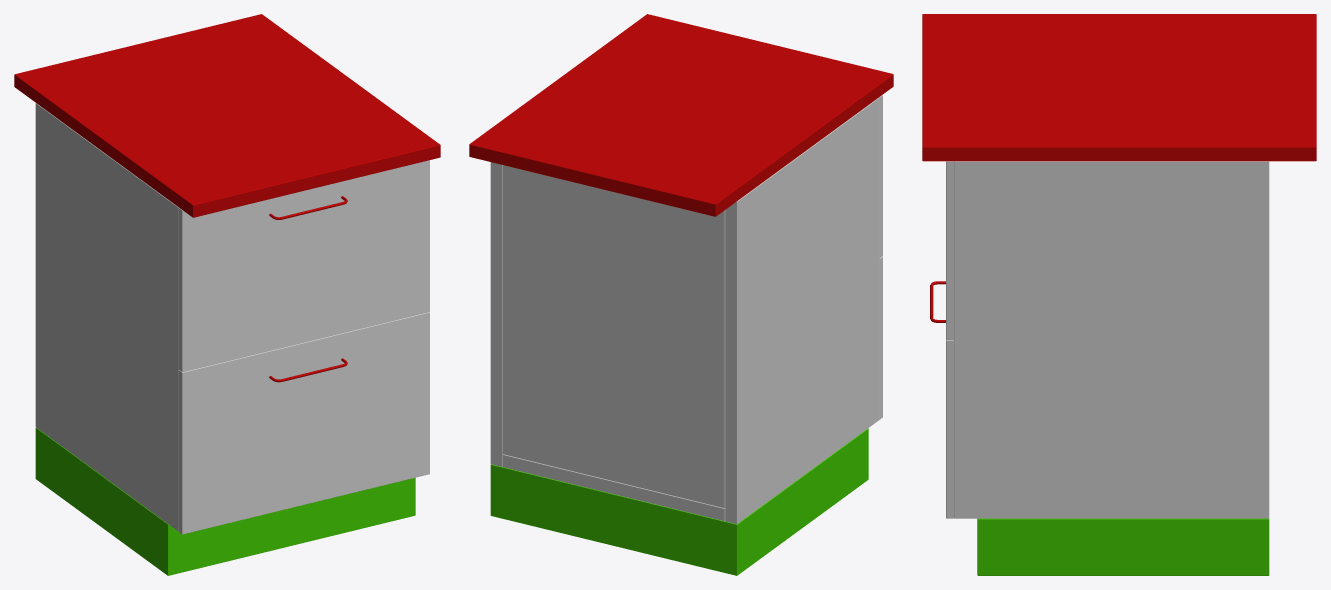
The model's file is Bench01c.fbx.
The picture shows the model from 3 angles, left to right: view 1: azimuth 30°, elevation 25°; view 2: azimuth 150°, elevation 25°; view 3: azimuth 270°, elevation 25°; orthographic projection. The views are drawn at different scales.
Visible parts, largest first — view 1: Bench01c, Drawer02, Drawer01; view 2: Bench01c, Drawer02, Drawer01; view 3: Bench01c, Drawer02, Drawer01.
Boxes of the visible parts, x1,y1,x2,y2 form: Bench01c: (14,14,440,575); Drawer02: (179,312,429,534); Drawer01: (179,160,429,372); Bench01c: (469,14,893,575); Drawer02: (879,256,882,419); Drawer01: (879,95,882,257); Bench01c: (922,14,1316,575); Drawer02: (930,281,953,518); Drawer01: (946,161,953,339).
Bounding box in the file's own units: 50 × 62.5 × 75.
